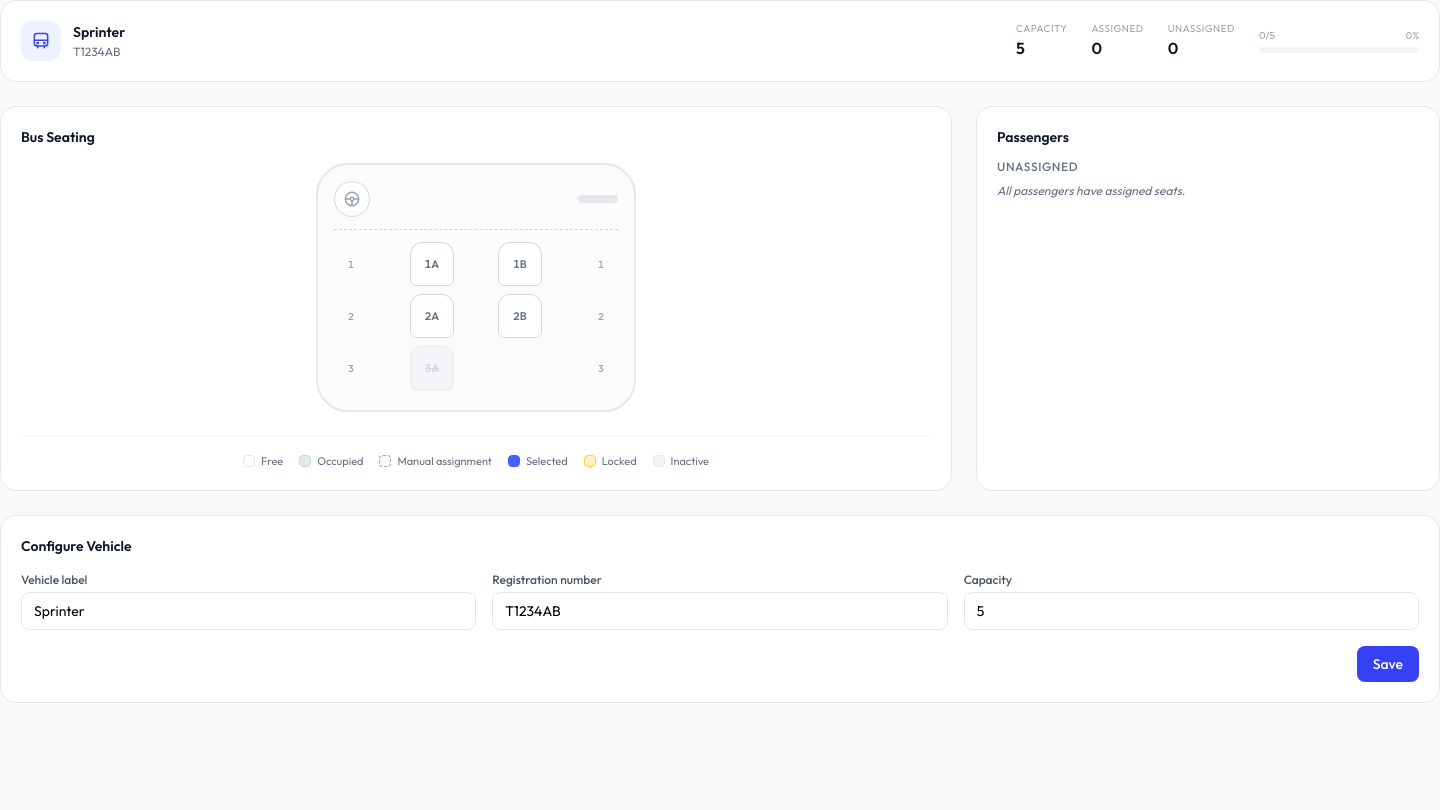
Test: ManualBusSeating › shows CAPACITY_TOO_LOW localized message without {count} placeholder
Expected: the heading "Sprinter" is shown, [73,22,125,42]
Step 1. Click the button "Save" → (1388, 664), box [1357,646,1419,682]
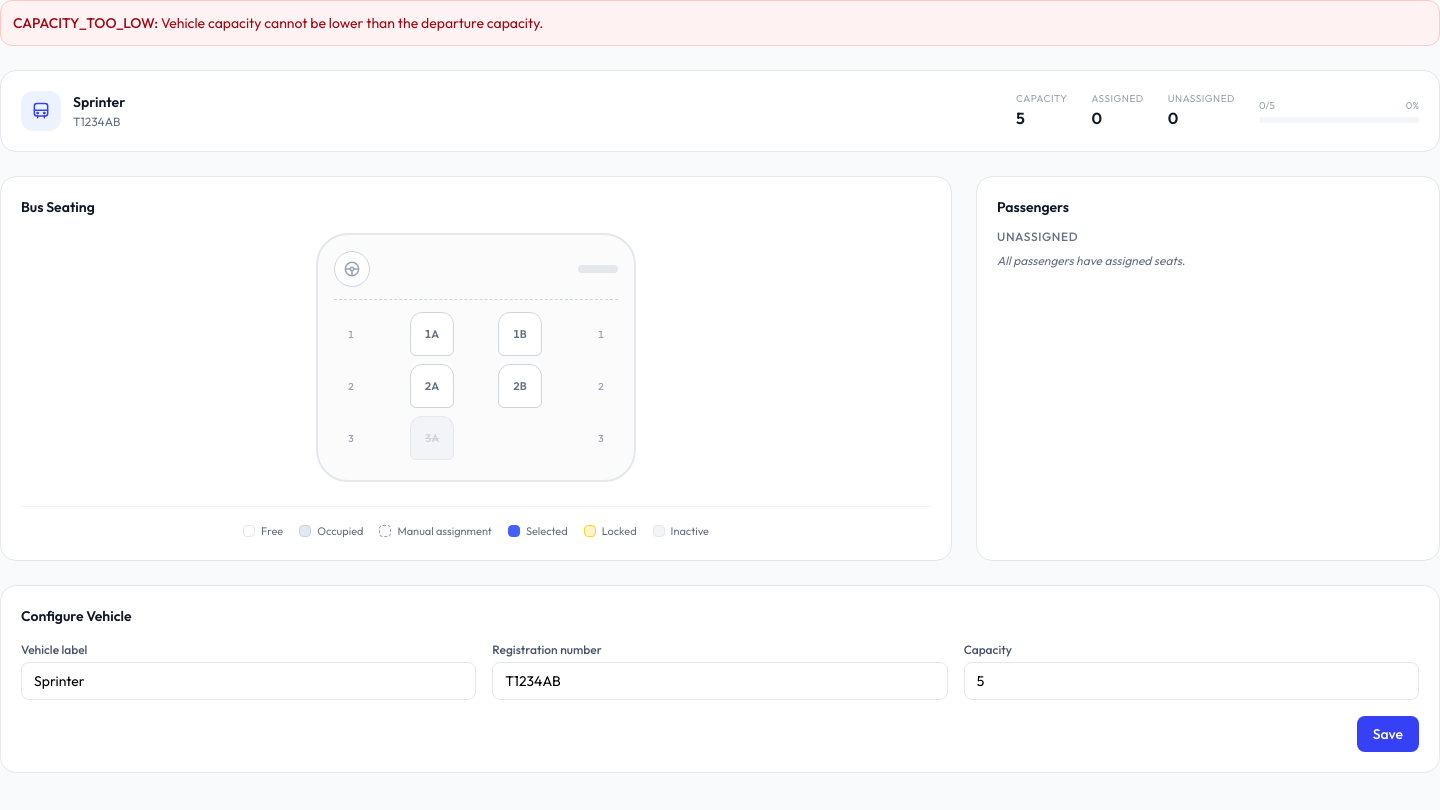
Now the text "Vehicle capacity cannot be lower than the departure capacity" is shown, box [161,14,543,32]
